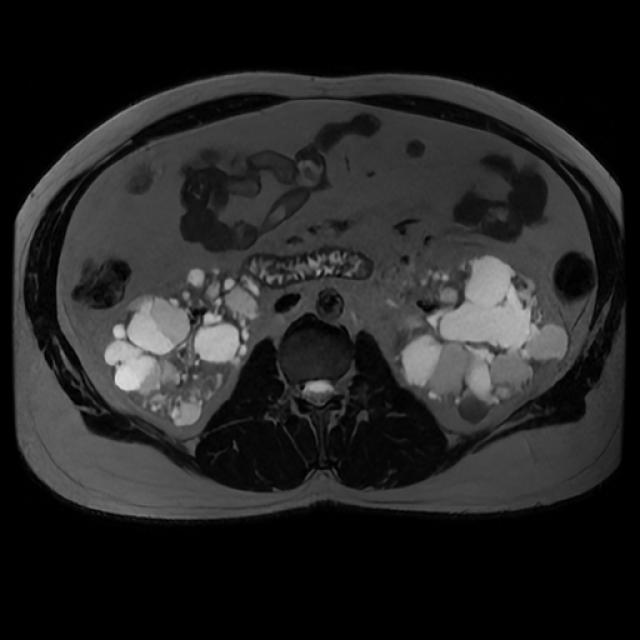sag: (102, 267, 260, 427)
sol: (394, 254, 570, 424)
